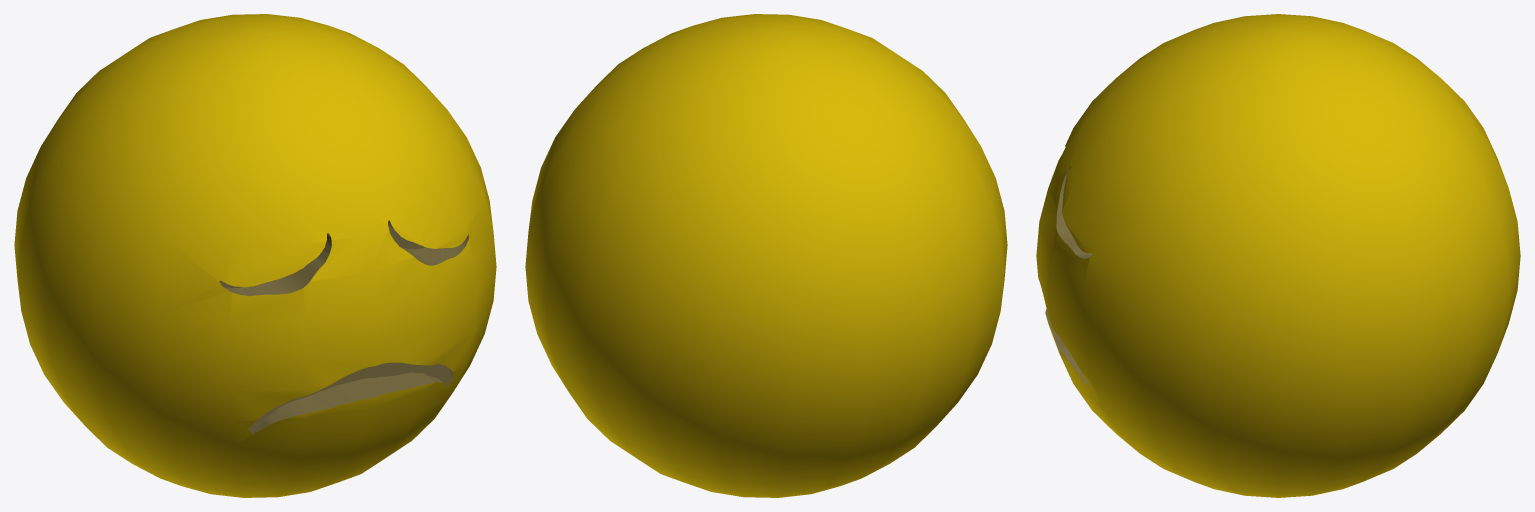
Rendered from Emoji_Sad.fbx.
3 views of the same model, side by side, from view 1: azimuth 30°, elevation 25°; view 2: azimuth 150°, elevation 25°; view 3: azimuth 270°, elevation 25° (orthographic).
Parts seen in each view (by area): view 1: pSphere2; view 2: pSphere2; view 3: pSphere2.
Boxes of the visible parts, x1,y1,x2,y2 form: pSphere2: (14,14,496,497); pSphere2: (525,14,1007,497); pSphere2: (1036,14,1520,497).
Size of the model in its own units: 8.32 by 8.32 by 8.32.
